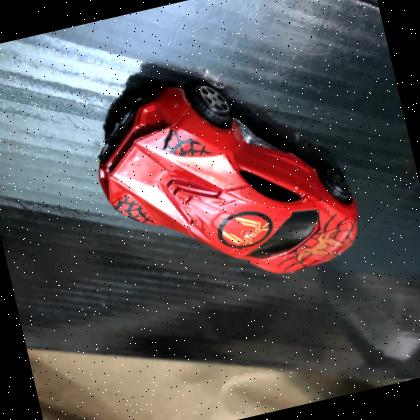Car: (97, 81, 357, 273)
